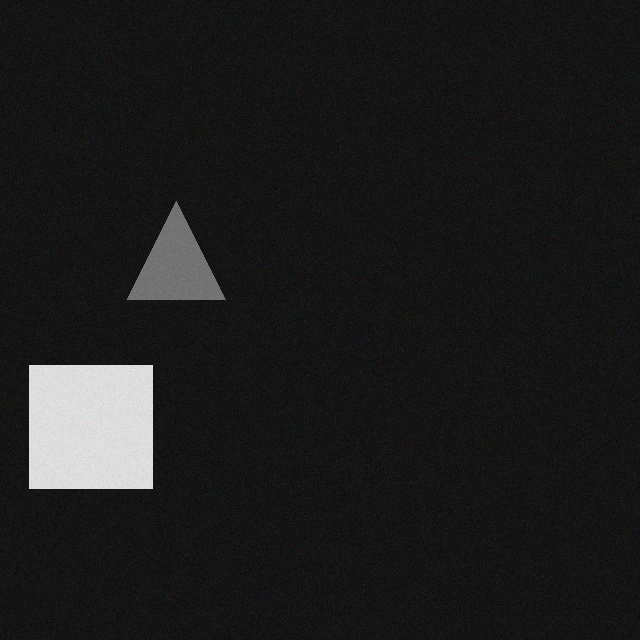square: (26, 369, 149, 492)
triangle: (124, 205, 222, 303)
